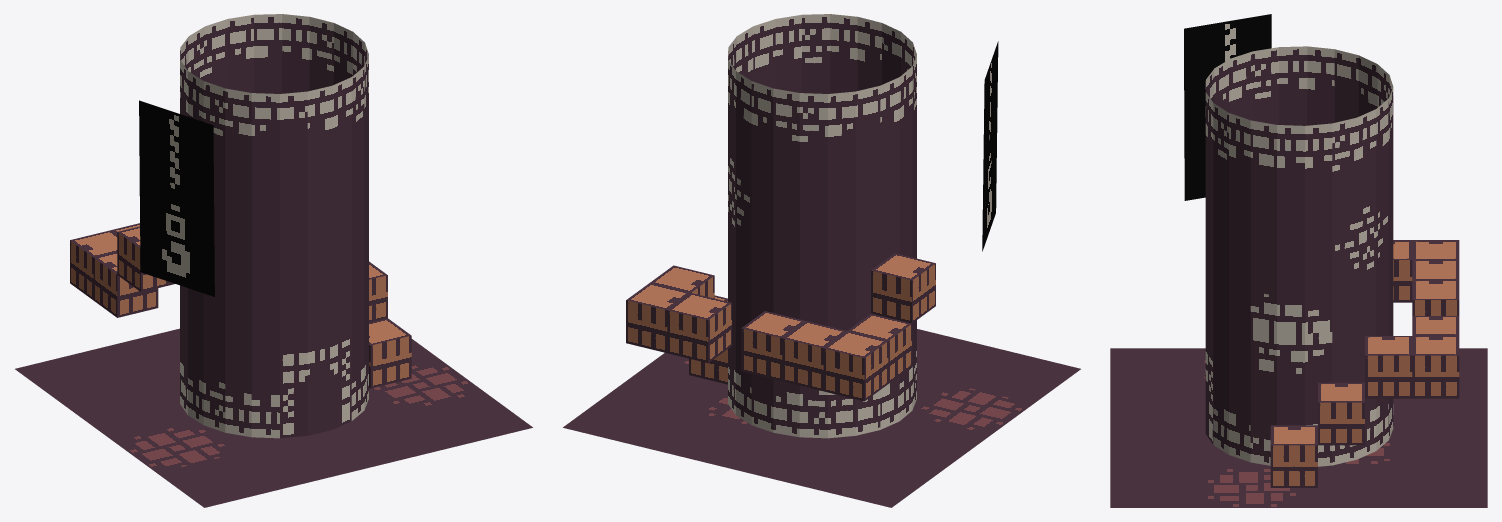
Rendered from 3d-platformer-tower.gltf.
3 renders of one model, left to right at view 1: azimuth 30°, elevation 25°; view 2: azimuth 150°, elevation 25°; view 3: azimuth 270°, elevation 25°, orthographic.
Visible parts, largest first — view 1: Cylinder, reference, Plane, platform.010, platform.004, platform.006, platform.005, platform.002; view 2: Cylinder, reference, platform.006, platform.005, platform.007, platform.003, platform.009, platform.008, Plane, platform.004, platform.001, platform.010; view 3: Cylinder, reference, Plane, platform.010, platform.001, platform.009, platform.002, platform.008, platform.004, platform.007, platform.003, platform.006.
Part boxes in pixels (x1,y1,x2,y2): Cylinder: (180,14,368,438); reference: (15,328,532,507); Plane: (139,100,214,296); platform.010: (369,318,411,388); platform.004: (93,252,158,317); platform.006: (70,230,117,300); platform.005: (117,226,174,292); platform.002: (369,261,387,322); Cylinder: (728,14,916,438); reference: (563,329,1080,507); platform.006: (823,331,888,401); platform.005: (871,253,935,323); platform.007: (667,293,731,363); platform.003: (782,321,846,391); platform.009: (626,283,690,352); platform.008: (741,311,805,380); Plane: (982,41,998,251); platform.004: (847,313,911,383); platform.001: (650,265,714,298); platform.010: (689,349,727,384); Cylinder: (1205,46,1393,466); reference: (1110,348,1487,507); Plane: (1184,14,1271,200); platform.010: (1270,425,1317,487); platform.001: (1365,336,1412,398); platform.009: (1412,336,1459,398); platform.002: (1318,382,1364,445); platform.008: (1412,280,1459,315); platform.004: (1393,240,1412,302); platform.007: (1412,316,1459,335); platform.003: (1412,260,1459,279); platform.006: (1412,240,1459,259).
Size of the model in its own units: 4 by 4 by 4.
2 materials, 2 textured.
